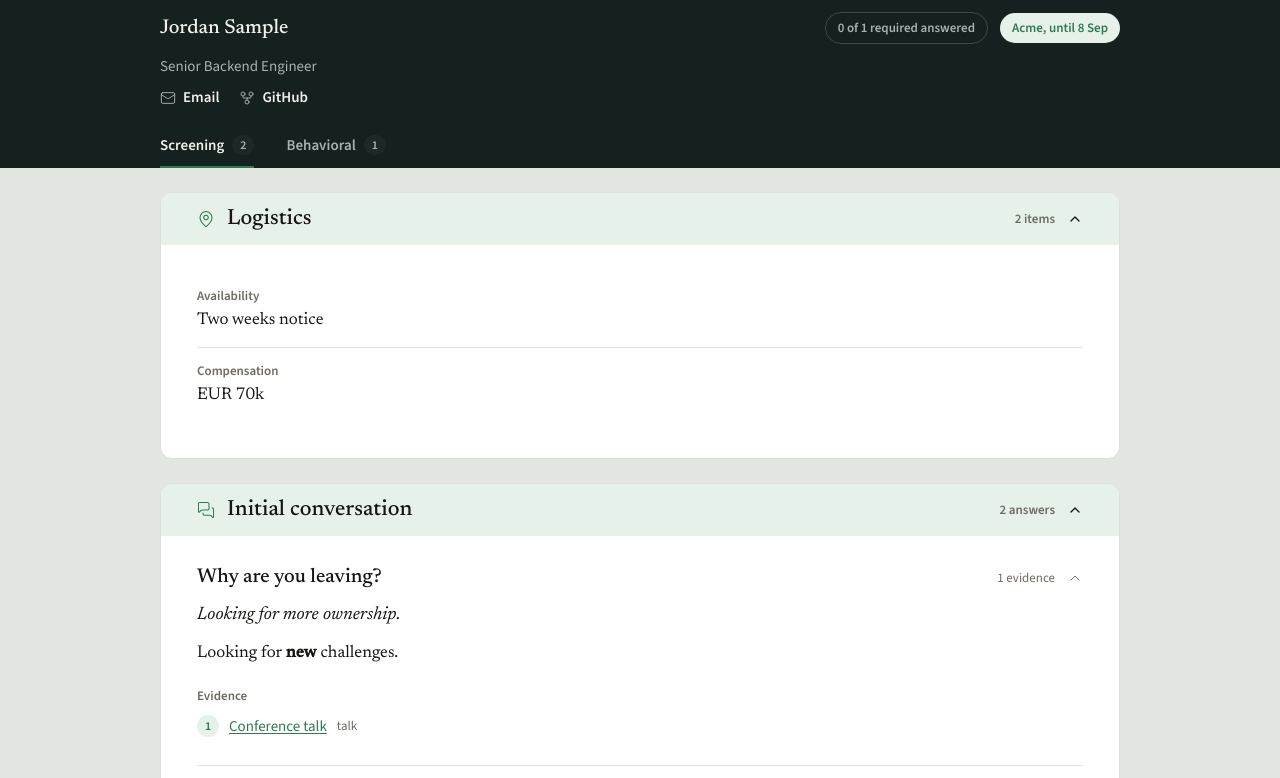
SessionPage › collapsing a surface hides its body from assistive tech
expect the heading "Jordan Sample" is shown: met, box top-left (160, 18), bottom-right (288, 38)
Click the button "Logistics 2 items" at (269, 219), box top-left (161, 193), bottom-right (1119, 245)
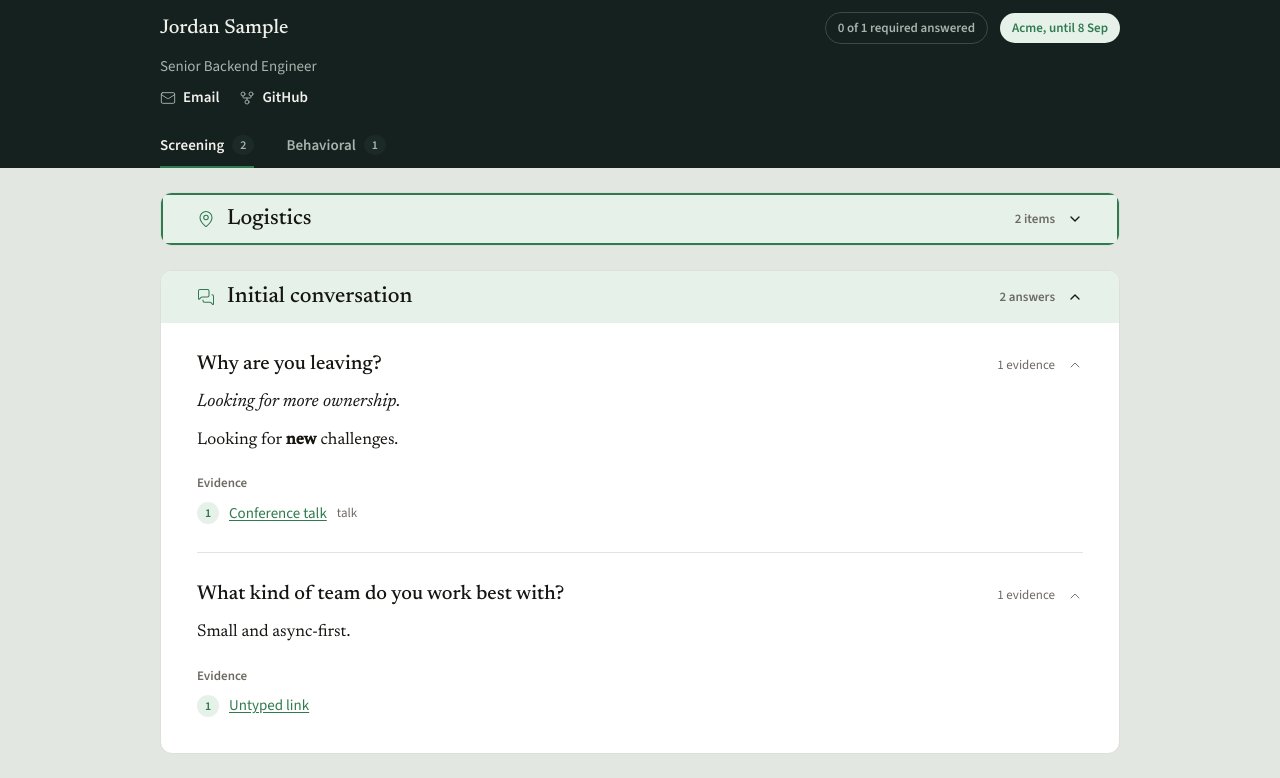
expect the button "Logistics 2 items" is collapsed: met, box top-left (161, 193), bottom-right (1119, 245)
